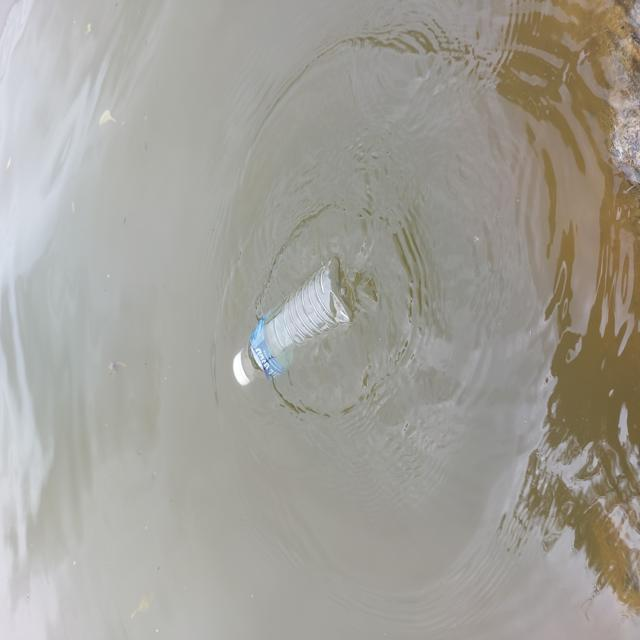waterbottle: (228, 245, 360, 395)
